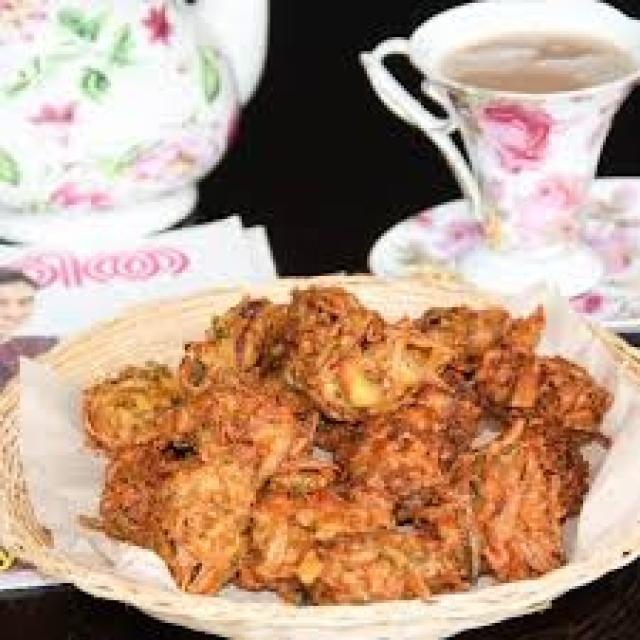BAJI: (94, 433, 266, 588), (415, 431, 573, 580), (251, 468, 424, 599), (292, 304, 427, 428), (191, 338, 299, 480), (350, 387, 470, 494), (474, 348, 599, 433), (94, 359, 194, 455), (411, 312, 534, 371)
